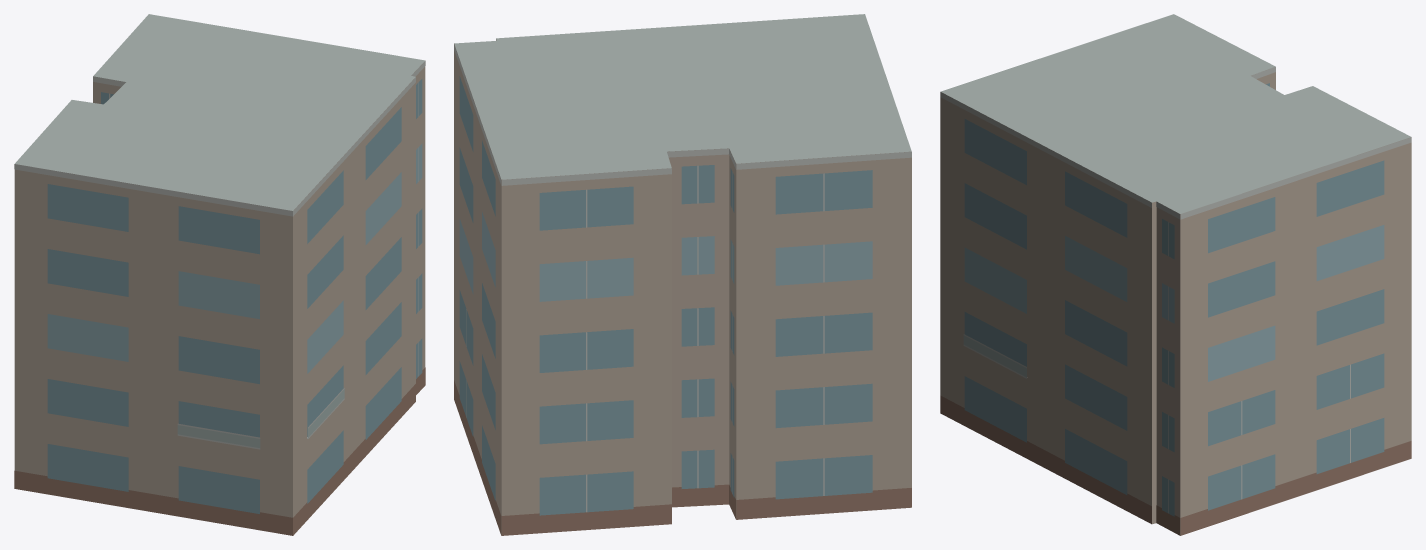
File: survey-upis-32913761.glb
3 renders of one model, left to right at view 1: azimuth 30°, elevation 25°; view 2: azimuth 150°, elevation 25°; view 3: azimuth 270°, elevation 25°, orthographic. The views are drawn at different scales.
Visible parts, largest first — view 1: survey-upis-32913761.tmp; view 2: survey-upis-32913761.tmp; view 3: survey-upis-32913761.tmp.
Boxes of the visible parts, x1=… form: survey-upis-32913761.tmp: x1=14, y1=14, x2=425, y2=535; survey-upis-32913761.tmp: x1=454, y1=14, x2=911, y2=535; survey-upis-32913761.tmp: x1=940, y1=14, x2=1411, y2=535.
Size of the model in its own units: 19.03 by 14.25 by 18.92.
